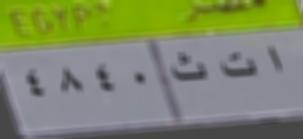0: (130, 64, 152, 94)
4: (22, 65, 50, 103), (93, 60, 117, 99)
8: (55, 62, 88, 104)
alif: (264, 40, 287, 74)
taa: (218, 47, 258, 83)
thaa: (170, 47, 210, 87)
